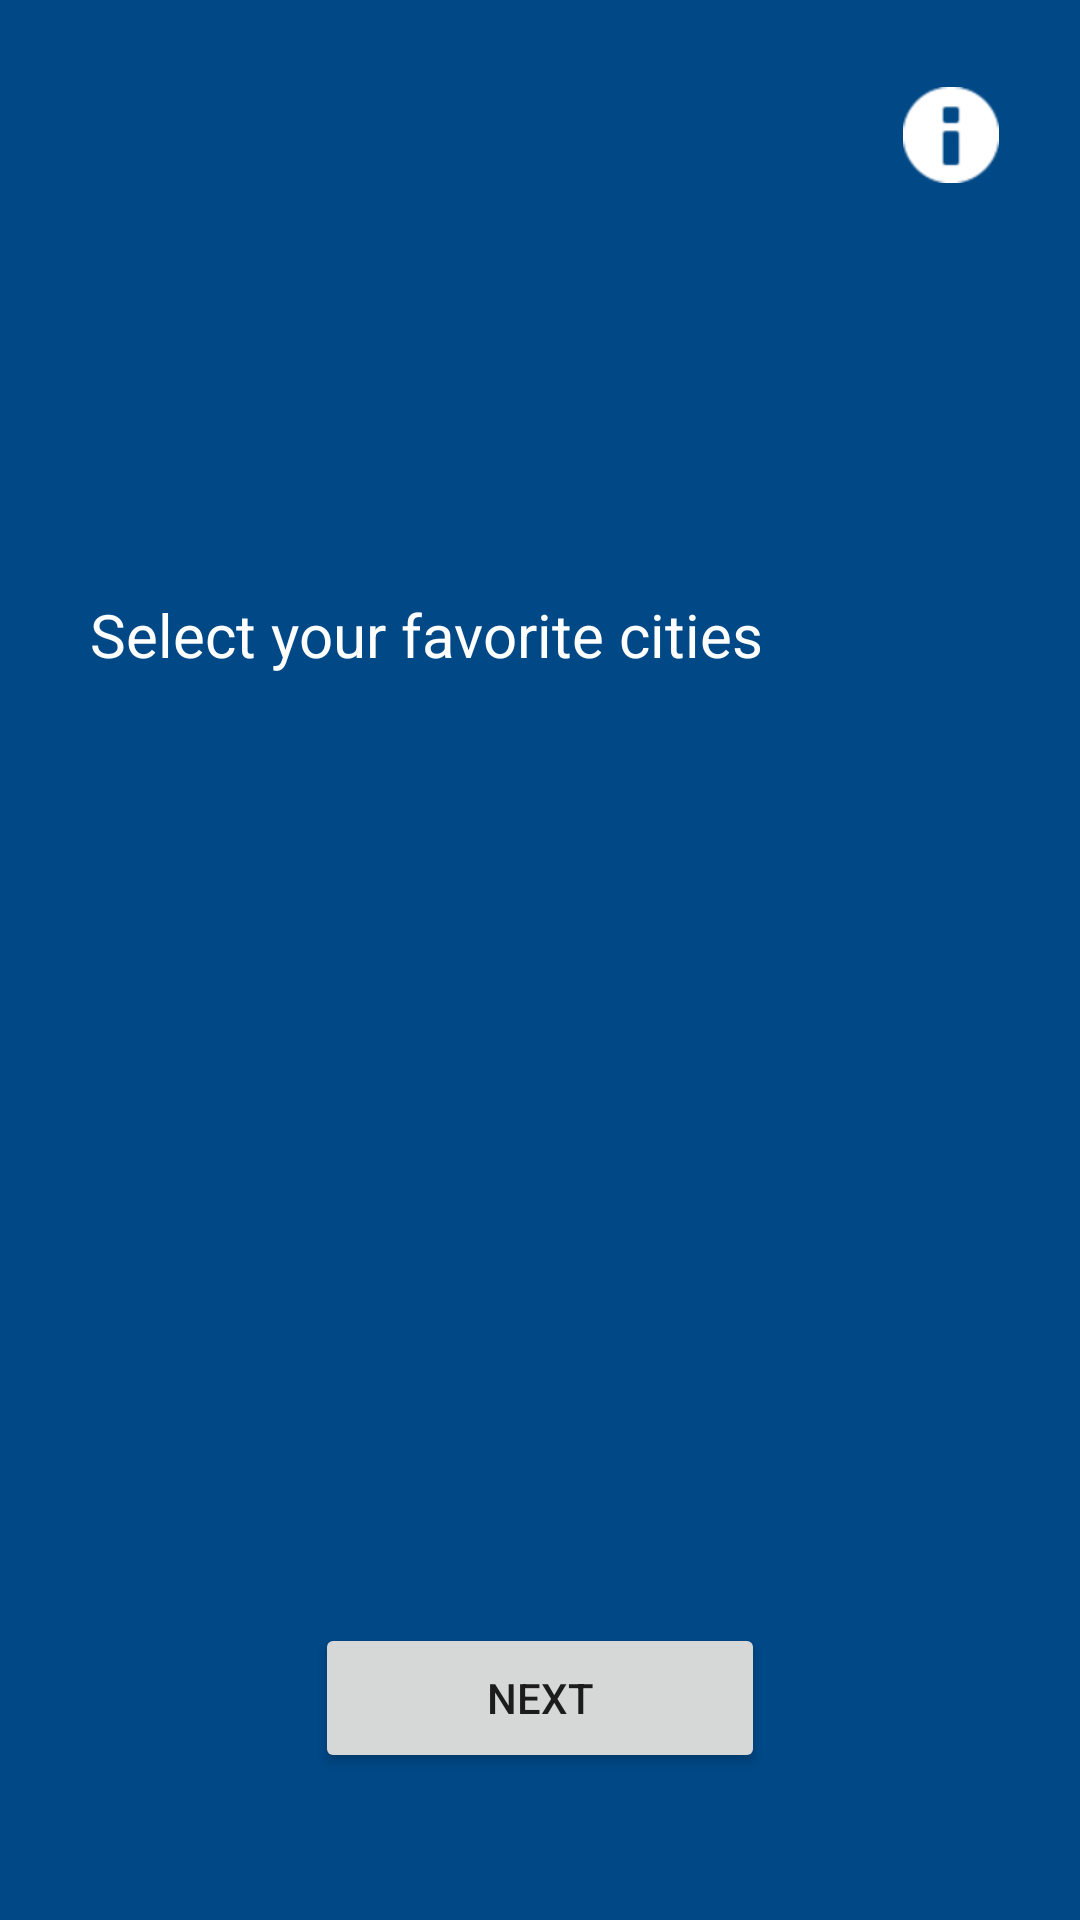

Icons on this 1080 × 1920 Android screen, each with its box as [x1, y1, x2, y2]:
info: [903, 87, 999, 183]
